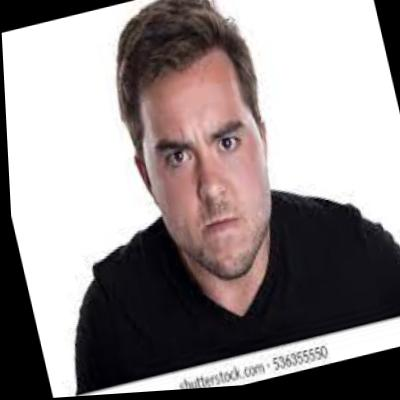angry: (116, 33, 286, 292)
